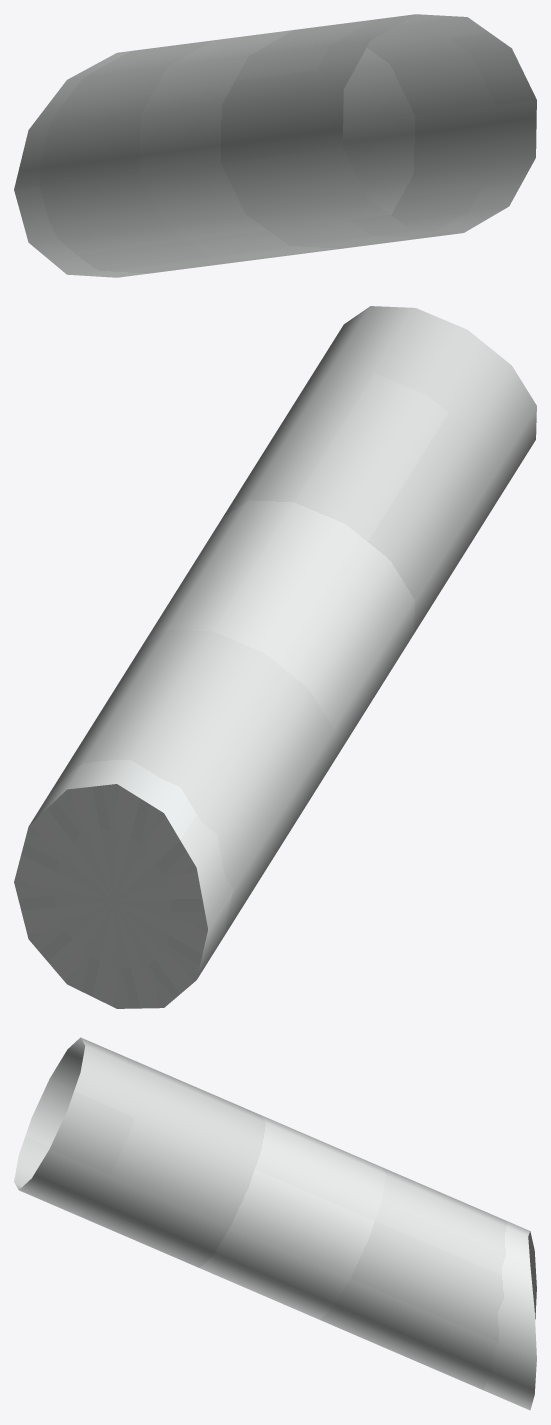
The model's file is luminairearm_truss15ftstraightdouble_c11.obj.
3 renders of one model, top to bottom at view 1: azimuth 30°, elevation 25°; view 2: azimuth 150°, elevation 25°; view 3: azimuth 270°, elevation 25°, orthographic. The views are drawn at different scales.
Visible parts, largest first — view 1: luminairearm_truss15ftstraightdouble_c11; view 2: luminairearm_truss15ftstraightdouble_c11; view 3: luminairearm_truss15ftstraightdouble_c11.
Part boxes in pixels (x1,y1,x2,y2): luminairearm_truss15ftstraightdouble_c11: (14, 14, 536, 277); luminairearm_truss15ftstraightdouble_c11: (14, 306, 536, 1008); luminairearm_truss15ftstraightdouble_c11: (14, 1037, 536, 1410).
Bounding box in the file's own units: 0.1562 × 0.3708 × 0.4917.
